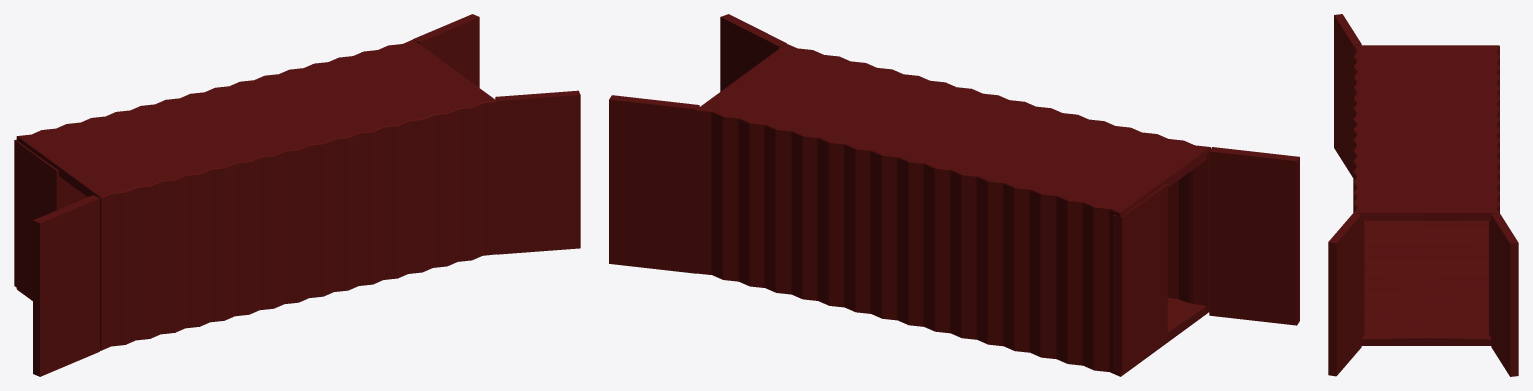
File: shipment_tri_red.glb
3 views of the same model, side by side, from view 1: azimuth 30°, elevation 25°; view 2: azimuth 150°, elevation 25°; view 3: azimuth 270°, elevation 25° (orthographic). The views are drawn at different scales.
Visible parts, largest first — view 1: shipment_tri_red; view 2: shipment_tri_red; view 3: shipment_tri_red.
Part boxes in pixels (box(x1,y1,x2,y2)): shipment_tri_red: box(14, 14, 580, 376); shipment_tri_red: box(609, 14, 1299, 376); shipment_tri_red: box(1328, 14, 1518, 376).
Size of the model in its own units: 7.41 by 2 by 2.59.
